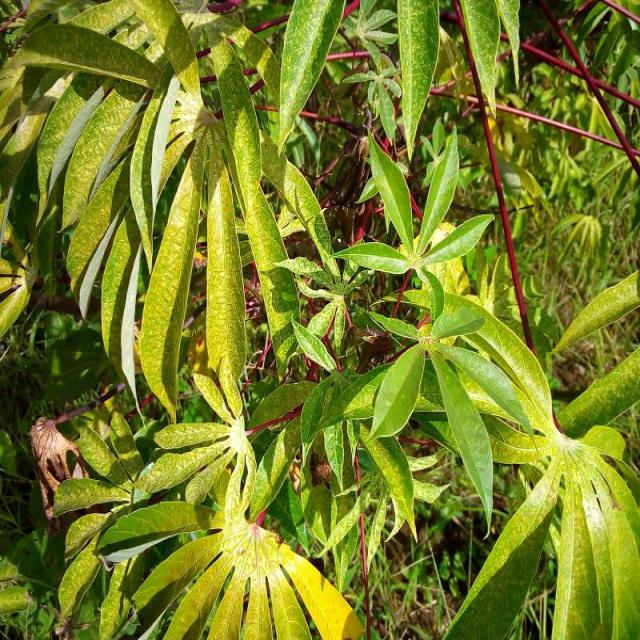cassava leaf: (2, 0, 638, 638), (11, 1, 338, 424)
